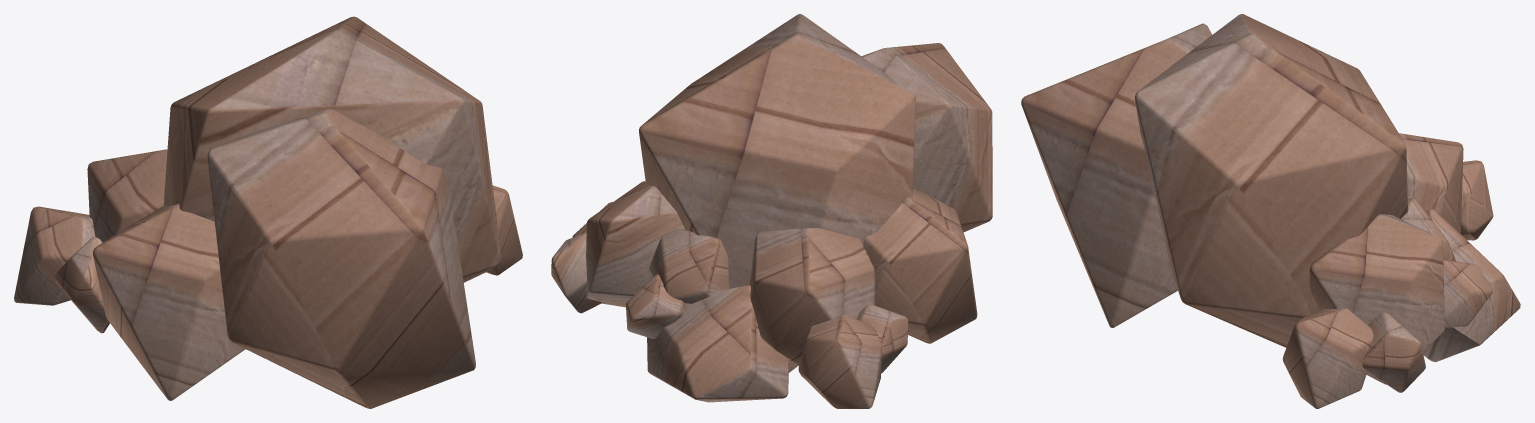
File: FOREST_DECOR_ROCKS_004.obj
3 renders of one model, left to right at view 1: azimuth 30°, elevation 25°; view 2: azimuth 150°, elevation 25°; view 3: azimuth 270°, elevation 25°, orthographic. The views are drawn at different scales.
Parts seen in each view (by area): view 1: FOREST_DECOR_ROCKS_004; view 2: FOREST_DECOR_ROCKS_004; view 3: FOREST_DECOR_ROCKS_004.
Boxes of the visible parts, x1,y1,x2,y2 form: FOREST_DECOR_ROCKS_004: [14, 16, 522, 408]; FOREST_DECOR_ROCKS_004: [551, 14, 992, 408]; FOREST_DECOR_ROCKS_004: [1021, 14, 1520, 408].
Bounding box in the file's own units: 2.4 × 1.86 × 2.59.
